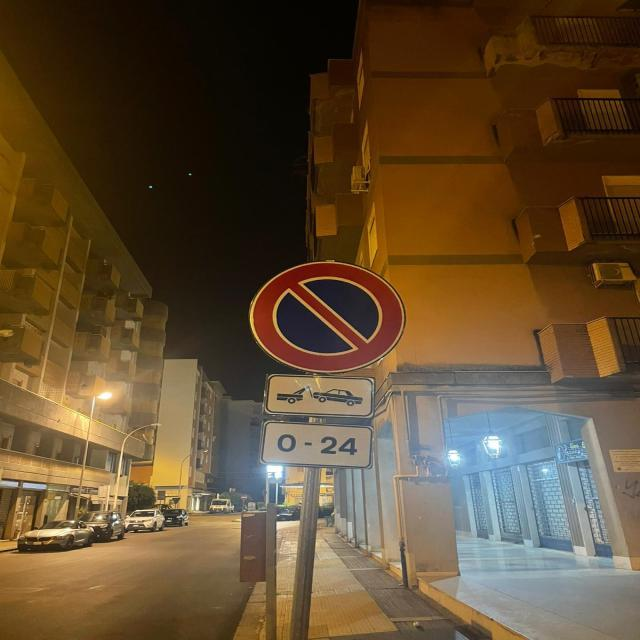forb_stopping: (246, 260, 407, 374)
